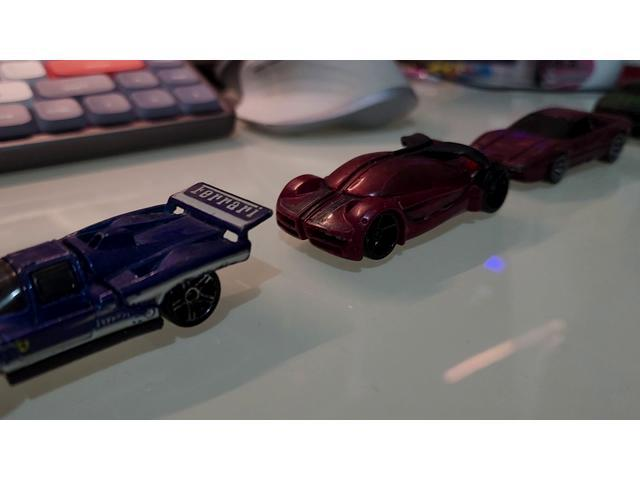toy-car: (2, 181, 273, 388), (277, 132, 509, 264), (471, 105, 633, 186)
